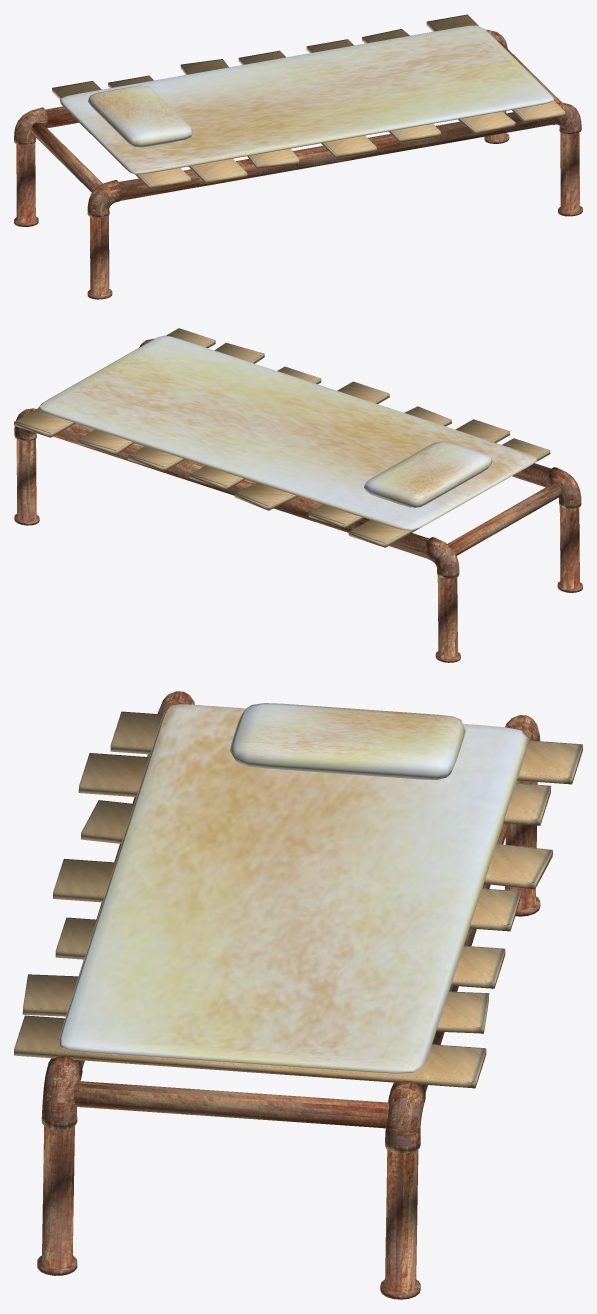
Rendered from bed.fbx.
3 views of the same model, one above another, from view 1: azimuth 30°, elevation 25°; view 2: azimuth 150°, elevation 25°; view 3: azimuth 270°, elevation 25° (orthographic). The views are drawn at different scales.
Visible parts, largest first — view 1: Cube.007, Cylinder.024, Cube.008, Cylinder.022, Cylinder.018, Cylinder.017, Cylinder.019, Cylinder.023, Cylinder.020, Cylinder.021; view 2: Cube.007, Cylinder.024, Cube.008, Cylinder.018, Cylinder.022, Cylinder.017, Cylinder.019, Cylinder.020, Cylinder.023, Cylinder.021; view 3: Cube.007, Cylinder.024, Cube.008, Cylinder.022, Cylinder.018, Cylinder.017, Cylinder.019, Cylinder.020, Cylinder.023, Cylinder.021.
Part boxes in pixels (x1,y1,x2,y2): Cube.007: [59, 25, 554, 174]; Cylinder.024: [14, 30, 582, 299]; Cube.008: [88, 85, 192, 147]; Cylinder.022: [426, 14, 565, 122]; Cylinder.018: [52, 81, 190, 189]; Cylinder.017: [108, 75, 247, 183]; Cylinder.019: [180, 59, 299, 169]; Cylinder.023: [362, 29, 515, 134]; Cylinder.020: [238, 50, 376, 158]; Cylinder.021: [306, 39, 440, 142]; Cube.007: [38, 335, 537, 530]; Cylinder.024: [14, 338, 582, 662]; Cube.008: [364, 441, 492, 507]; Cylinder.018: [348, 438, 550, 547]; Cylinder.022: [14, 328, 215, 437]; Cylinder.017: [308, 419, 509, 528]; Cylinder.019: [234, 406, 451, 510]; Cylinder.020: [189, 381, 389, 490]; Cylinder.023: [77, 342, 264, 454]; Cylinder.021: [128, 366, 321, 471]; Cube.007: [59, 704, 529, 1073]; Cylinder.024: [37, 691, 540, 1299]; Cube.008: [230, 703, 465, 779]; Cylinder.022: [14, 1015, 486, 1088]; Cylinder.018: [110, 711, 582, 784]; Cylinder.017: [78, 753, 551, 825]; Cylinder.019: [81, 800, 552, 889]; Cylinder.020: [53, 858, 521, 931]; Cylinder.023: [22, 974, 489, 1033]; Cylinder.021: [55, 917, 505, 988].
Size of the model in its own units: 3103 by 813 by 1765.
10 materials, 10 textured.
